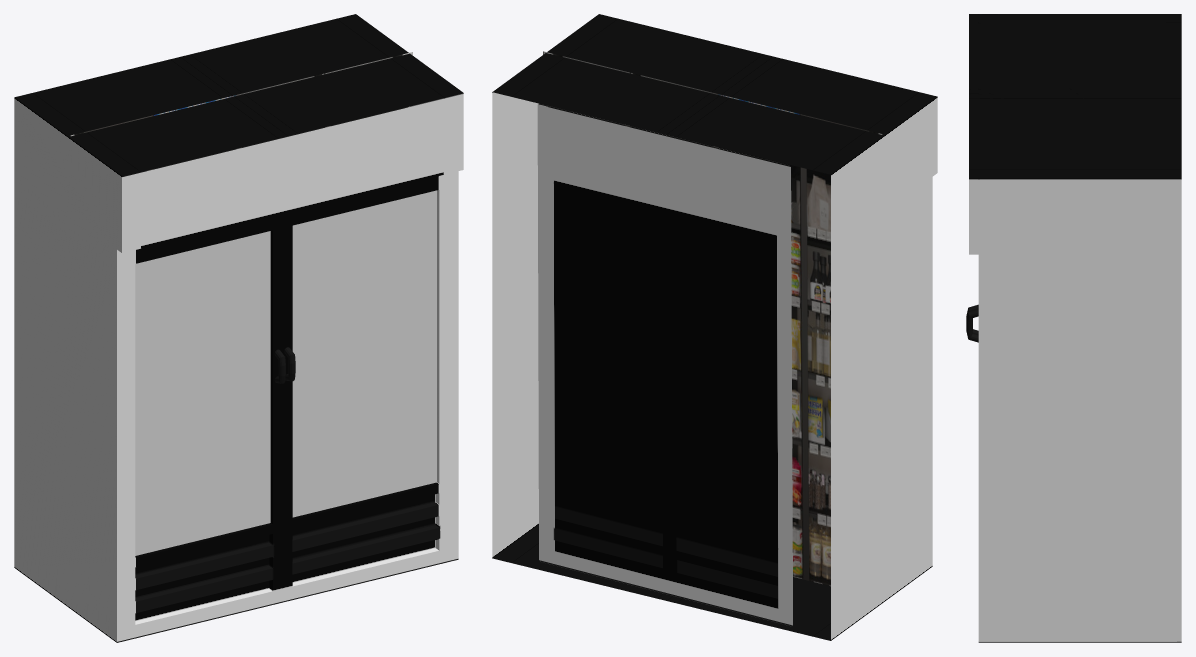
Rendered from nevera.fbx.
The picture shows the model from 3 angles, left to right: view 1: azimuth 30°, elevation 25°; view 2: azimuth 150°, elevation 25°; view 3: azimuth 270°, elevation 25°; orthographic projection.
Parts seen in each view (by area): view 1: Plano; view 2: Plano; view 3: Plano.
Boxes of the visible parts, x1=… form: Plano: x1=14, y1=14, x2=463, y2=642; Plano: x1=492, y1=14, x2=937, y2=640; Plano: x1=966, y1=14, x2=1181, y2=642.
Bounding box in the file's own units: 768 × 1013 × 420.
